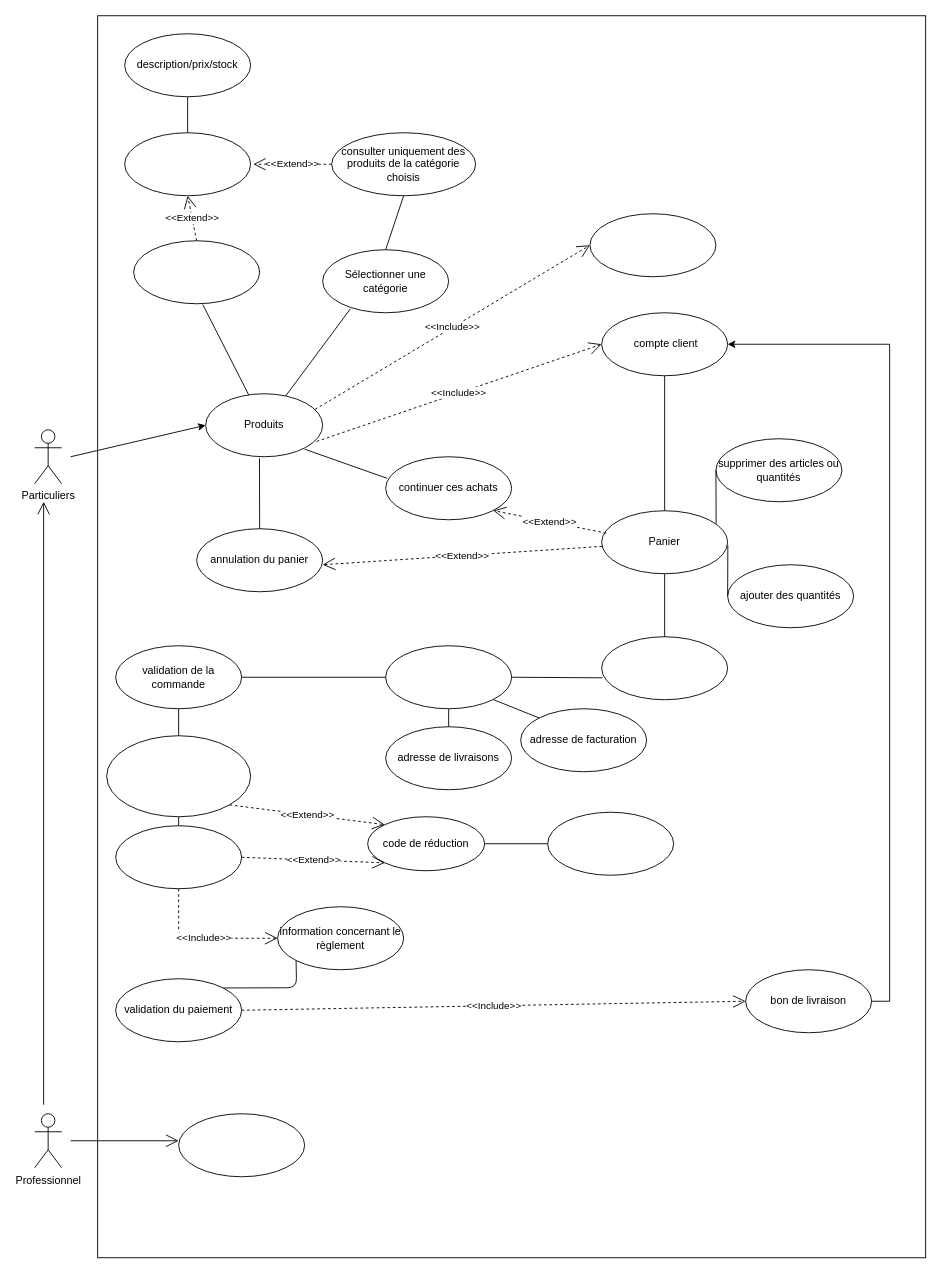
Image size: 941x1274. Some labels were removed from this diagram. The box of each missing label's shape, as (x1, y1, x2, y2) in pixels:
commande: (601, 636, 728, 700)
consulter l'ensemble des produits: (133, 240, 260, 304)
donnée du clients(adresse de livraisons,téléphone etc..): (106, 735, 251, 817)
détail du produit: (124, 132, 251, 196)
négocier par le service commercial de l'entreprise: (547, 811, 674, 875)
paiement: (115, 825, 242, 889)
paiement en différé: (178, 1113, 305, 1177)
s'inscrire: (589, 213, 716, 277)
vérification de la commande: (385, 645, 512, 709)
